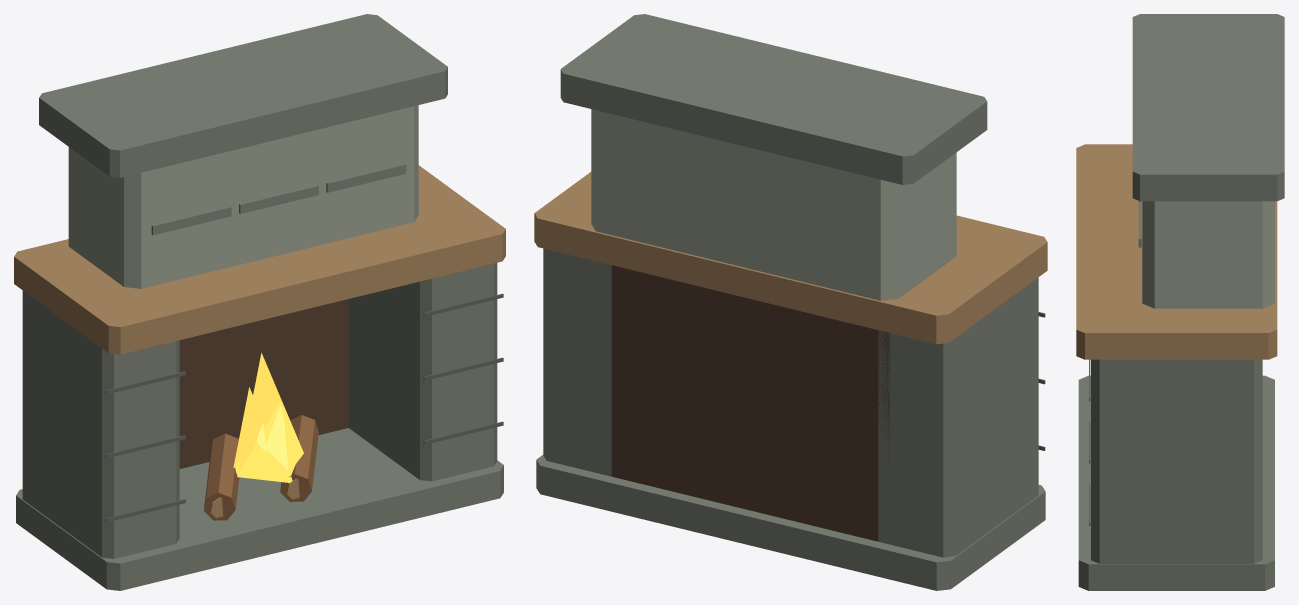
Rendered from fireplace.glb.
3 views of the same model, side by side, from view 1: azimuth 30°, elevation 25°; view 2: azimuth 150°, elevation 25°; view 3: azimuth 270°, elevation 25° (orthographic). The views are drawn at different scales.
Visible parts, largest first — view 1: geometry, fire; view 2: geometry; view 3: geometry.
Boxes of the visible parts, x1=… form: geometry: x1=14, y1=14, x2=505, y2=590; fire: x1=233, y1=352, x2=303, y2=482; geometry: x1=534, y1=14, x2=1047, y2=590; geometry: x1=1076, y1=14, x2=1284, y2=590.
Bounding box in the file's own units: 1.82 × 1.81 × 0.85.
